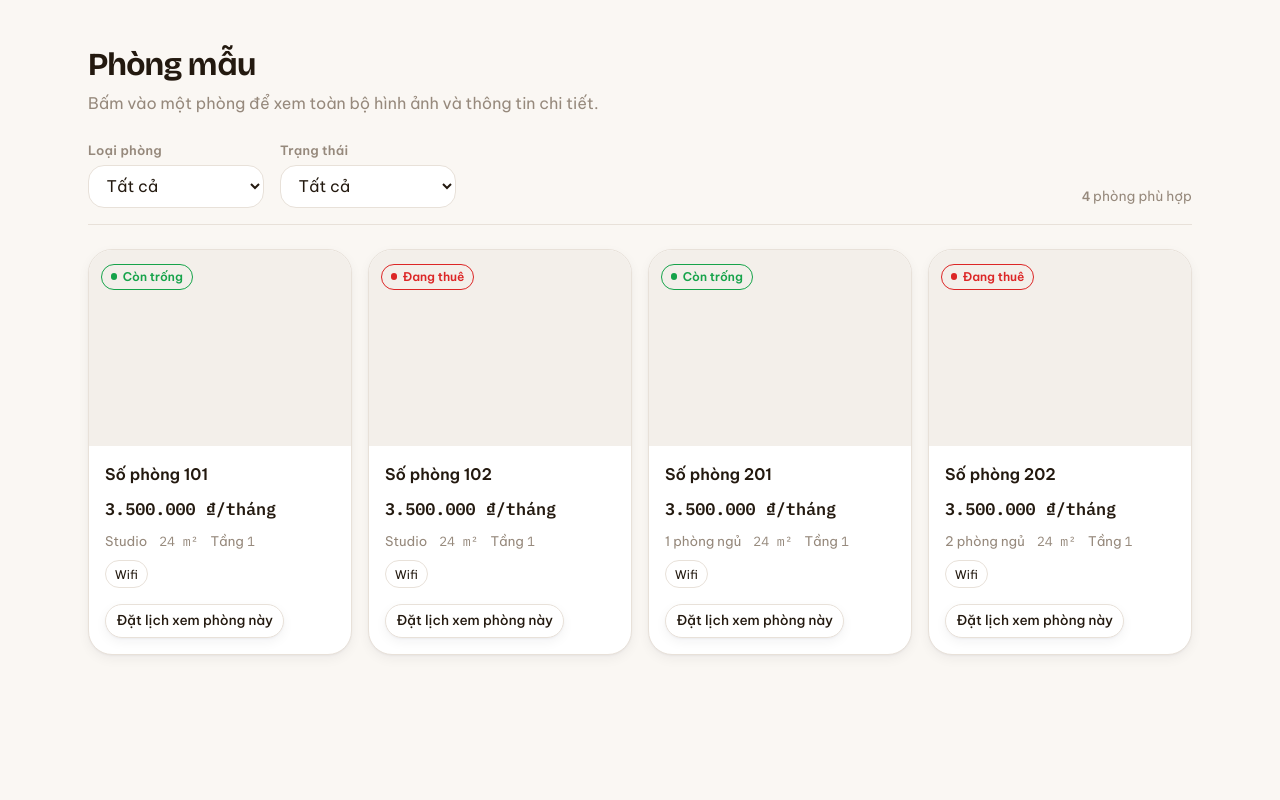
Test: RoomShowcase › reports an empty result when no room matches both filters
The width and height of the screenshot is (1280, 800).
Select "2 phòng ngủ" in the dropdown labelled "Loại phòng". click: (176,186)
box: [88, 165, 264, 208]
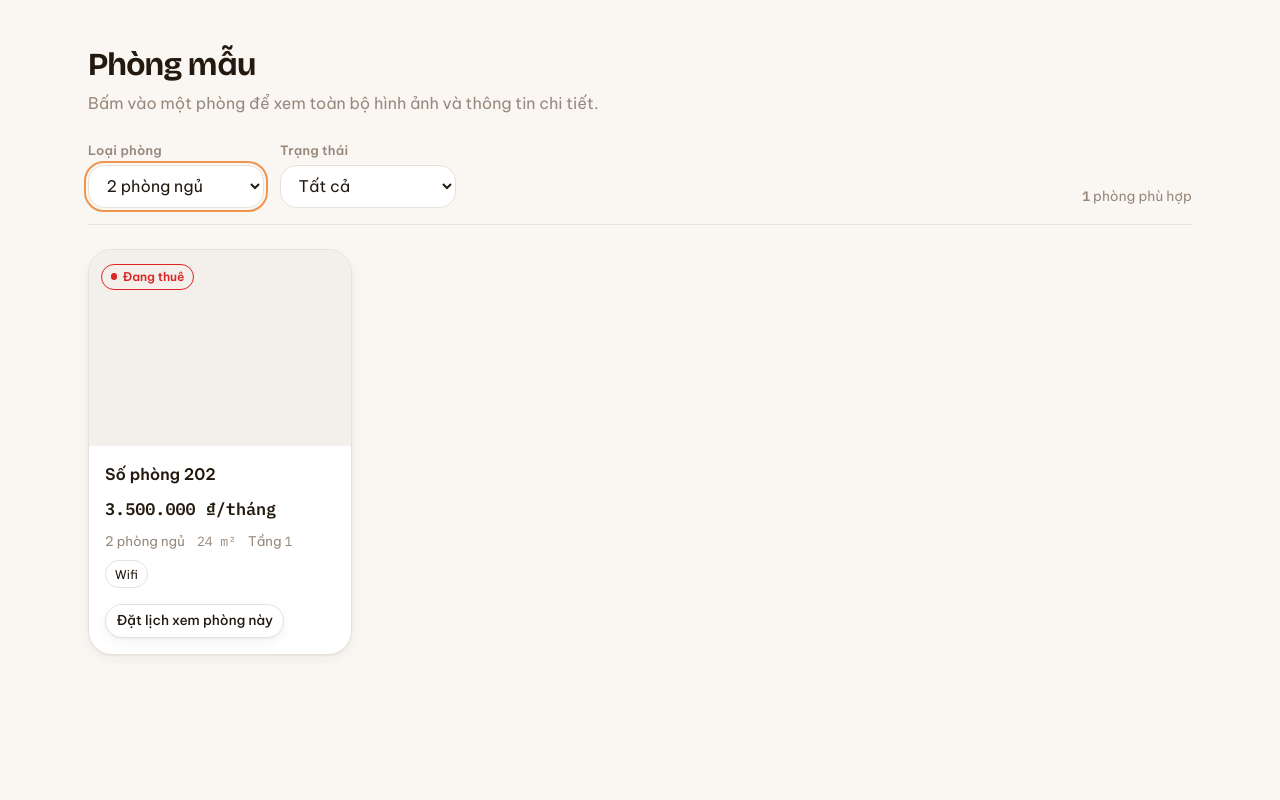
Select "Còn trống" in the dropdown labelled "Trạng thái". click: (368,186)
box: [280, 165, 456, 208]
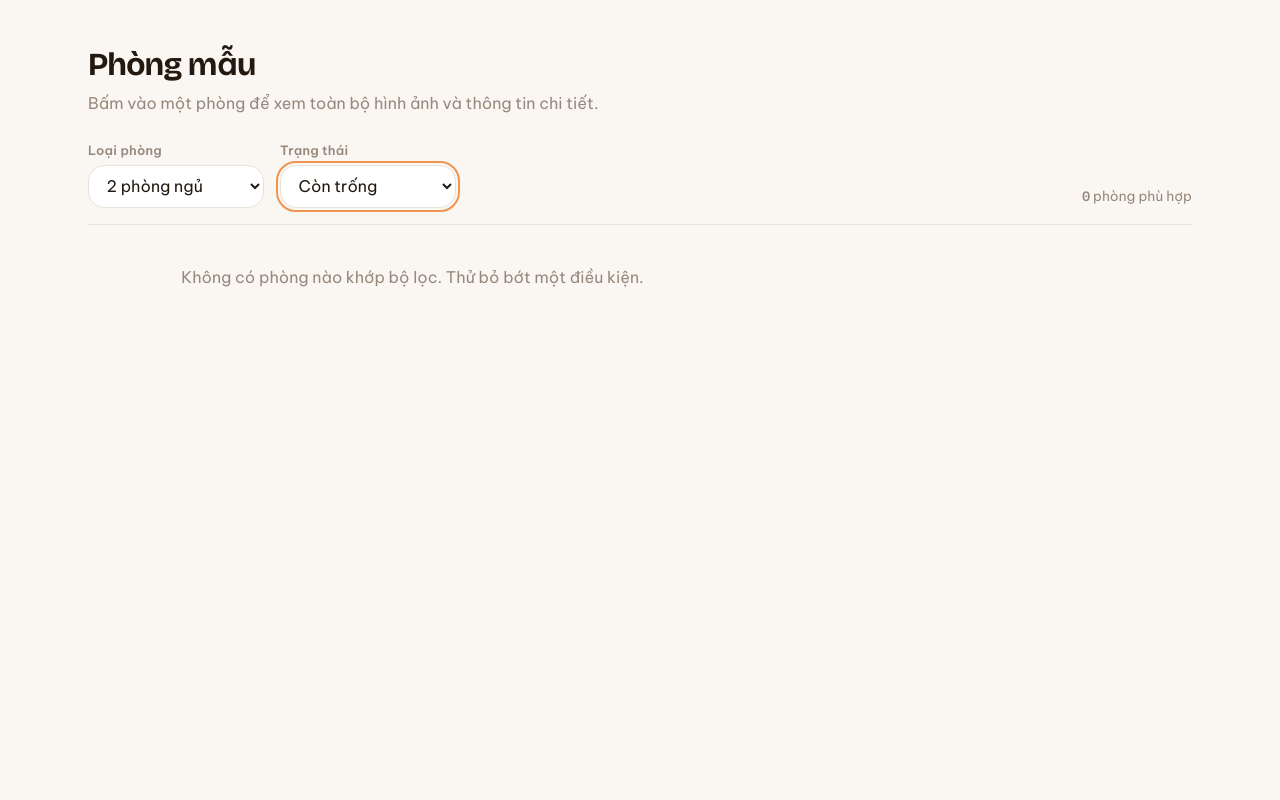
Expected: the text "Không có phòng nào khớp bộ lọc. Thử bỏ bớt một điều kiện." is shown, [181, 267, 644, 287]
